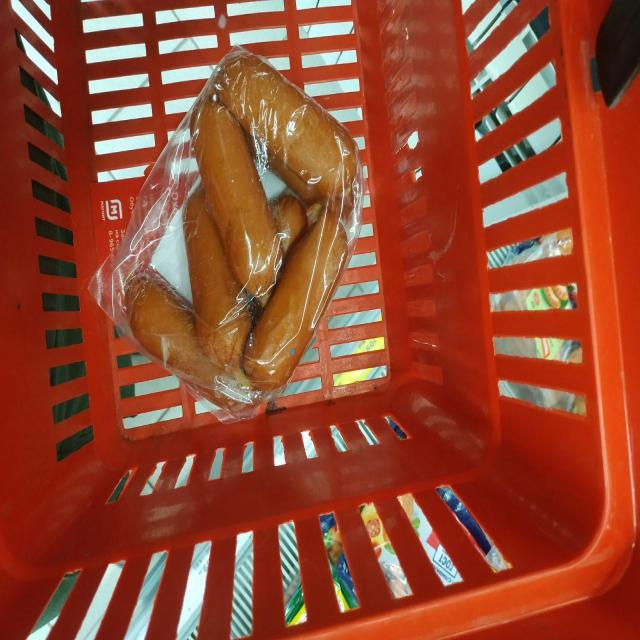Sausages: (89, 47, 364, 421)
